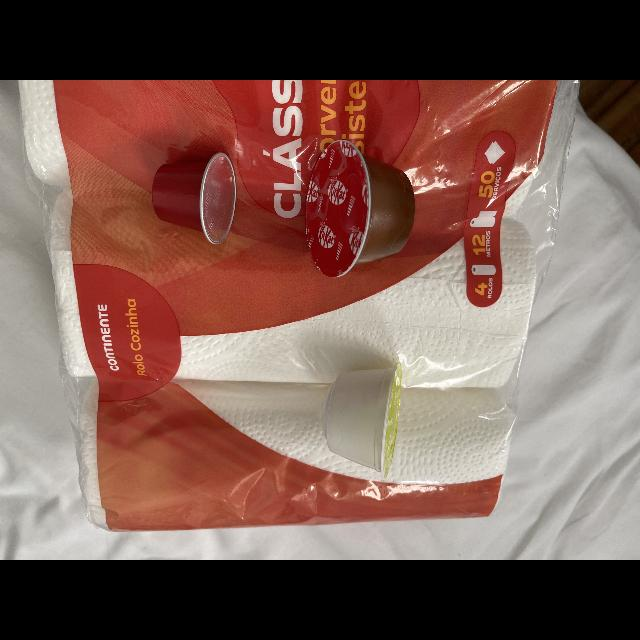intact_capsule: (294, 129, 424, 291), (316, 355, 424, 485), (140, 140, 244, 258)
